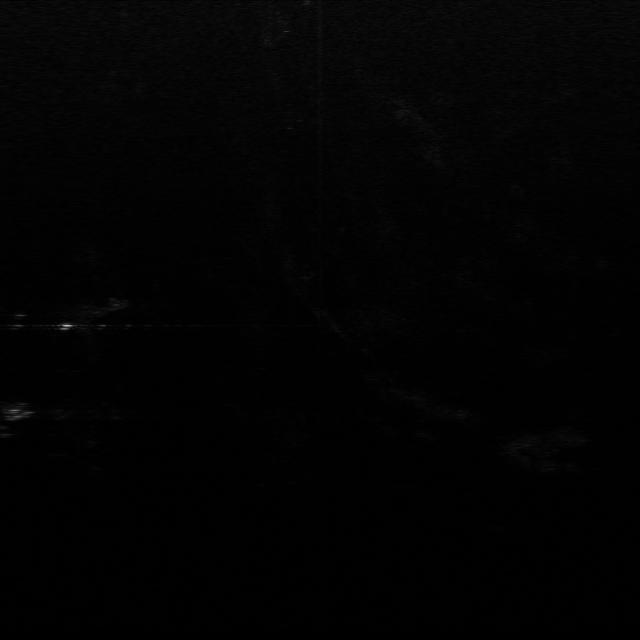rov: (3, 402, 39, 423)
